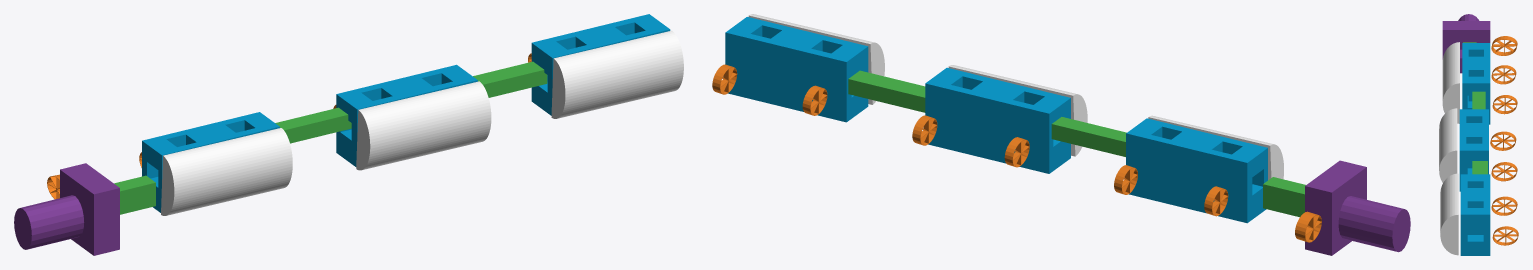
Rendered from tinker.obj.
3 views of the same model, side by side, from view 1: azimuth 30°, elevation 25°; view 2: azimuth 150°, elevation 25°; view 3: azimuth 270°, elevation 25° (orthographic). The views are drawn at different scales.
Visible parts, largest first — view 1: group_0_16448250, group_0_40919, group_0_8273816, group_0_4634441; view 2: group_0_40919, group_0_8273816, group_0_4634441, group_0_16089887, group_0_16448250; view 3: group_0_40919, group_0_16448250, group_0_16089887, group_0_8273816, group_0_4634441.
Part boxes in pixels (x1,y1,x2,y2): group_0_16448250: (161,30,683,215); group_0_40919: (142,14,670,212); group_0_8273816: (14,163,119,255); group_0_4634441: (114,61,547,214); group_0_40919: (725,17,1267,223); group_0_8273816: (1305,160,1410,255); group_0_4634441: (848,70,1305,217); group_0_16089887: (712,64,1321,242); group_0_16448250: (748,14,1283,180); group_0_40919: (1459,43,1490,255); group_0_16448250: (1439,42,1459,255); group_0_16089887: (1490,36,1518,245); group_0_8273816: (1442,14,1490,73); group_0_4634441: (1463,42,1487,174).
Size of the model in its own units: 229 by 25.35 by 35.07.
